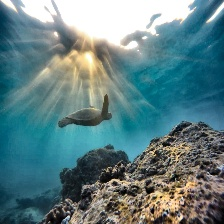seaturtle: (57, 94, 112, 128)
